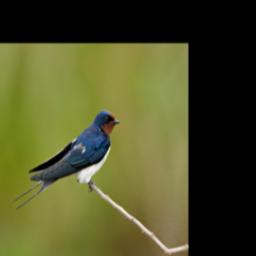Swallow: (11, 84, 122, 241)
